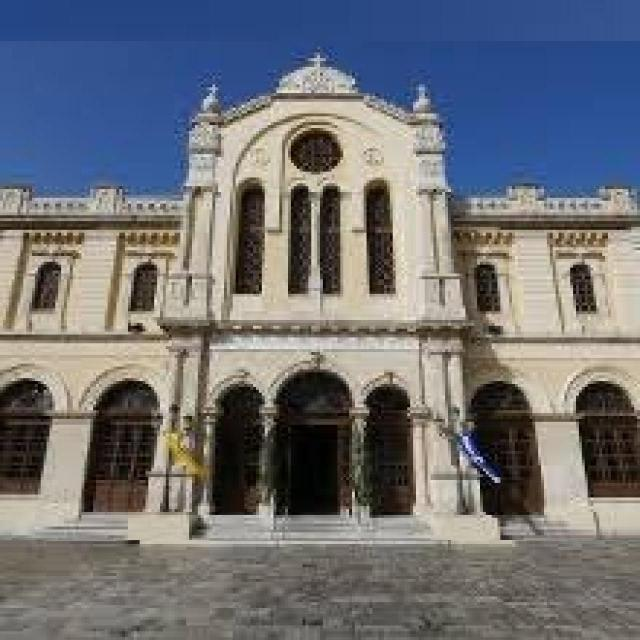Agios Minas: (1, 42, 640, 541)
